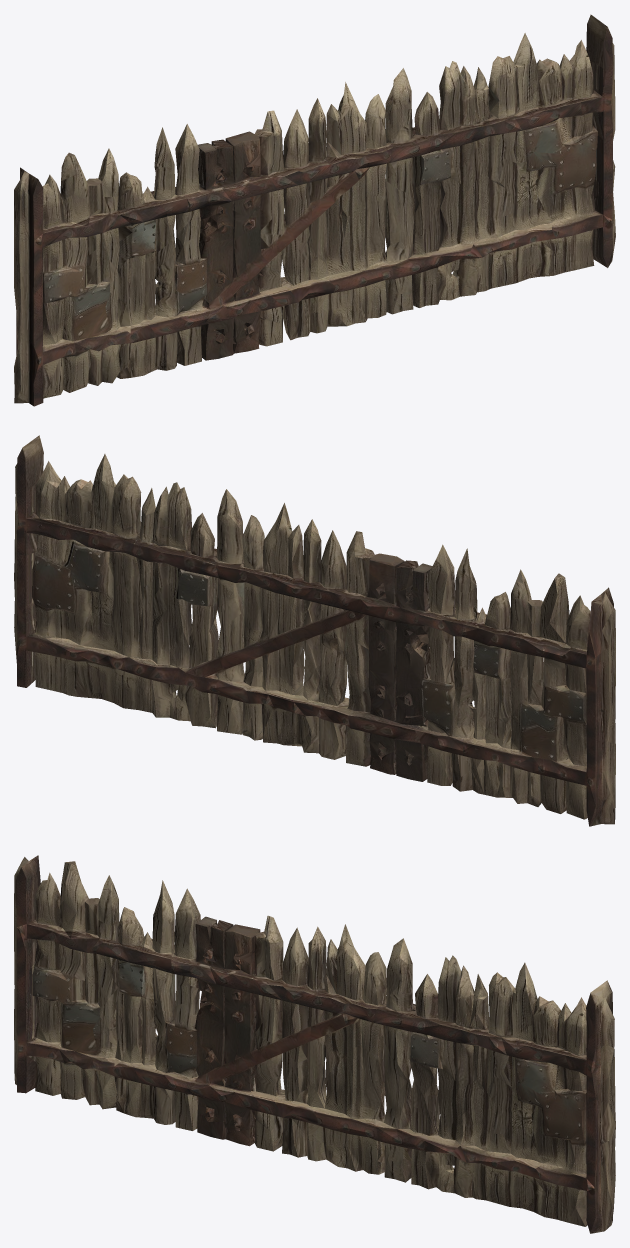
File: palisade_a.glb
3 views of the same model, one above another, from view 1: azimuth 30°, elevation 25°; view 2: azimuth 150°, elevation 25°; view 3: azimuth 330°, elevation 25° (orthographic).
Parts seen in each view (by area): view 1: mesh_node; view 2: mesh_node; view 3: mesh_node.
Part boxes in pixels (x1=…): mesh_node: x1=14, y1=14, x2=615, y2=406; mesh_node: x1=14, y1=435, x2=615, y2=826; mesh_node: x1=14, y1=855, x2=615, y2=1233.
Size of the model in its own units: 1.91 by 0.7519 by 0.1176.
1 material, 1 textured.
